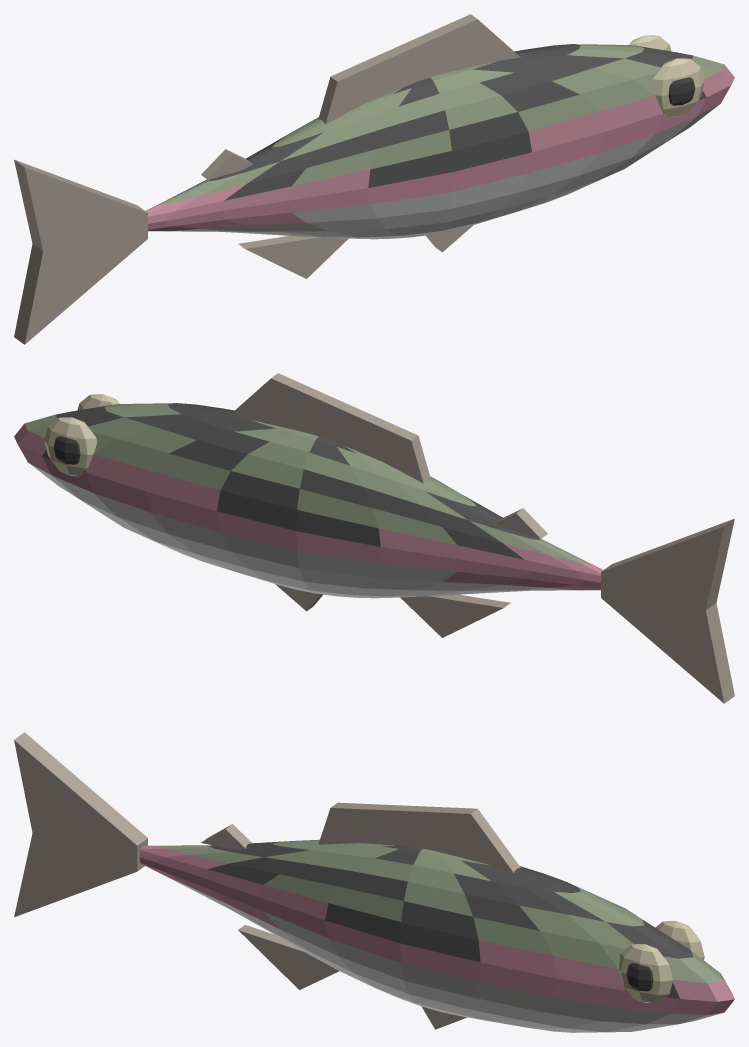
The model's file is RainbowTrout.glb.
3 renders of one model, top to bottom at view 1: azimuth 30°, elevation 25°; view 2: azimuth 150°, elevation 25°; view 3: azimuth 330°, elevation 25°, orthographic.
Parts seen in each view (by area): view 1: RainbowTrout; view 2: RainbowTrout; view 3: RainbowTrout.
Boxes of the visible parts, x1=… form: RainbowTrout: x1=14, y1=14, x2=734, y2=344; RainbowTrout: x1=14, y1=373, x2=734, y2=703; RainbowTrout: x1=14, y1=732, x2=734, y2=1032.
Size of the model in its own units: 3.38 by 1.01 by 0.4308.
